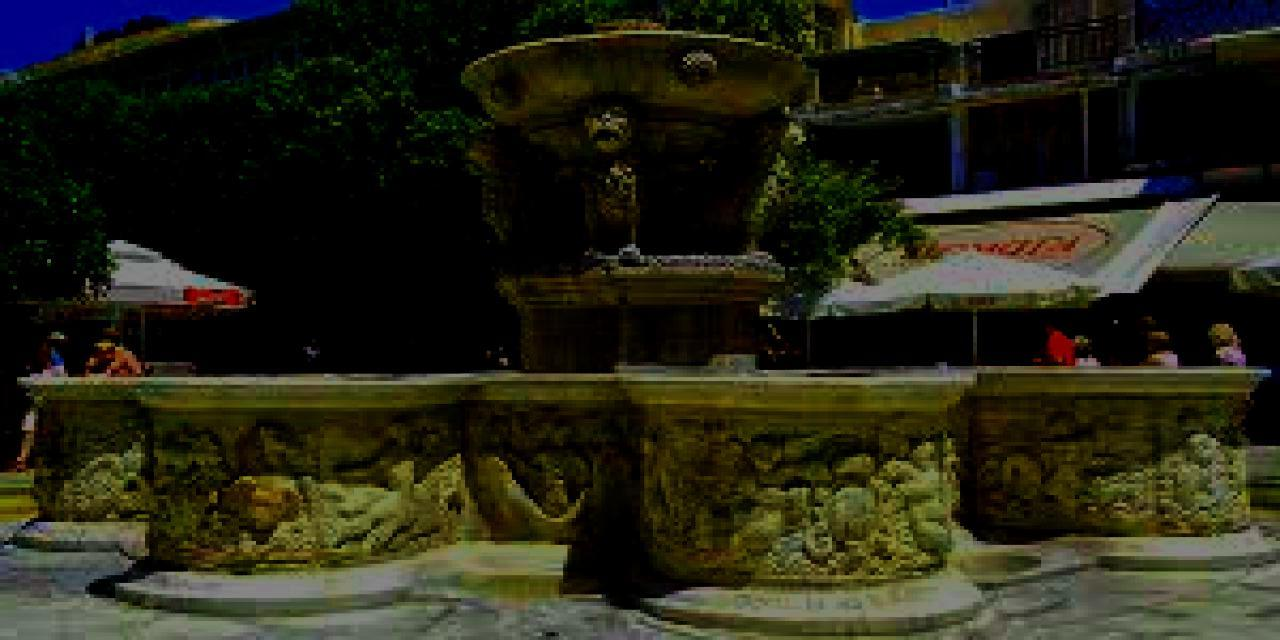Liontaria: (31, 33, 1261, 620)
